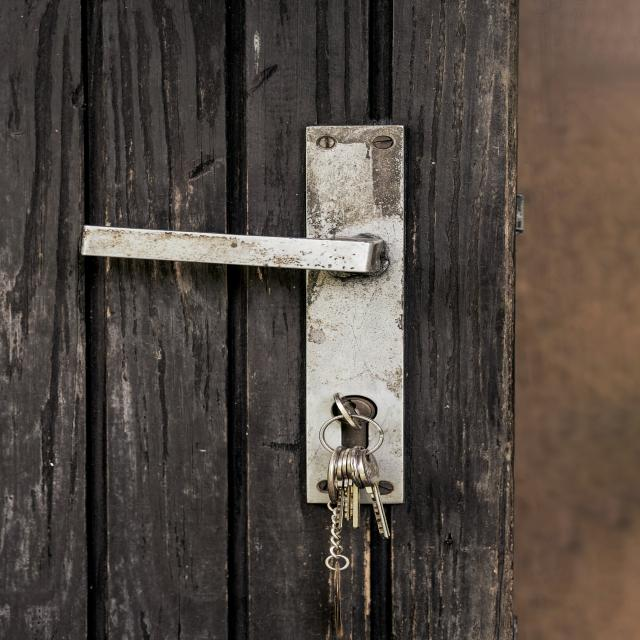door-handle: (79, 227, 386, 275)
